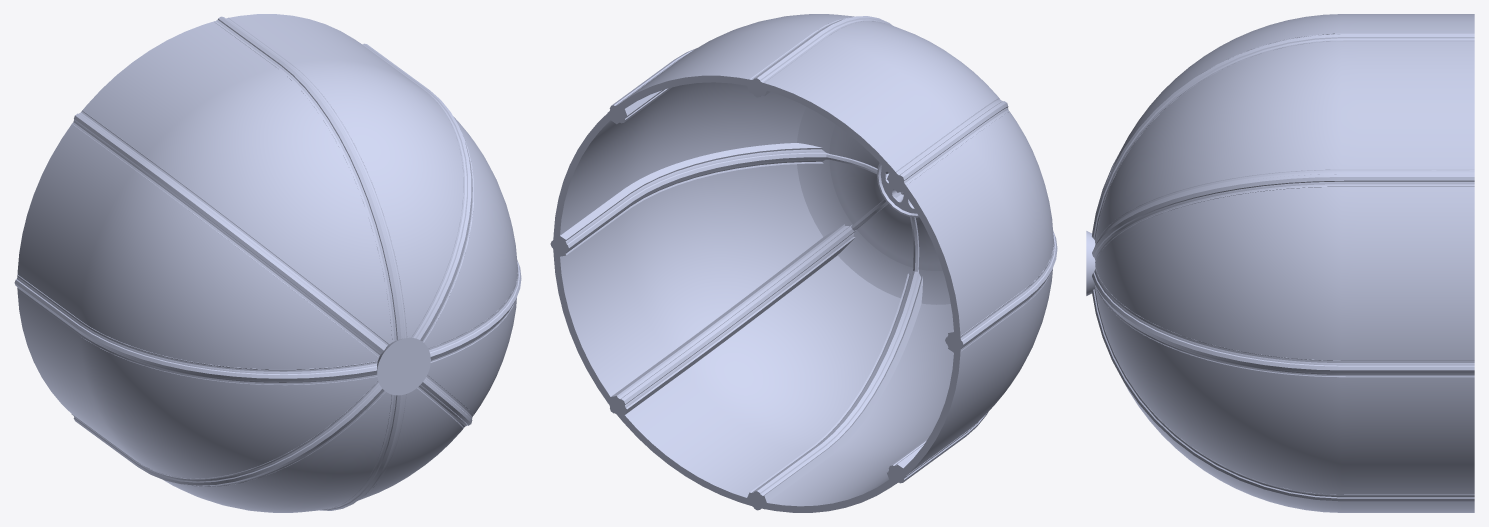
File: main.glb
3 renders of one model, left to right at view 1: azimuth 30°, elevation 25°; view 2: azimuth 150°, elevation 25°; view 3: azimuth 270°, elevation 25°, orthographic. The views are drawn at different scales.
Visible parts, largest first — view 1: projet voute lumiere final; view 2: projet voute lumiere final; view 3: projet voute lumiere final.
Boxes of the visible parts, left/top/right/bottom form: projet voute lumiere final: left=14, top=14, right=521, bottom=512; projet voute lumiere final: left=550, top=14, right=1057, bottom=512; projet voute lumiere final: left=1086, top=14, right=1474, bottom=512.
Bounding box in the file's own units: 15.38 × 15.38 × 11.8.
